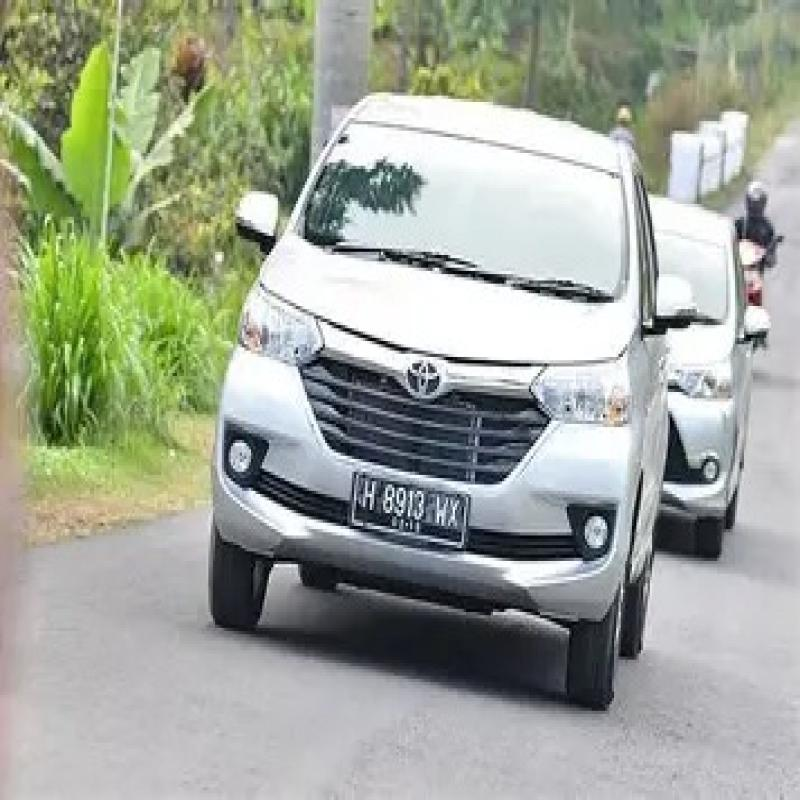license plate on a car: (342, 462, 480, 572)
